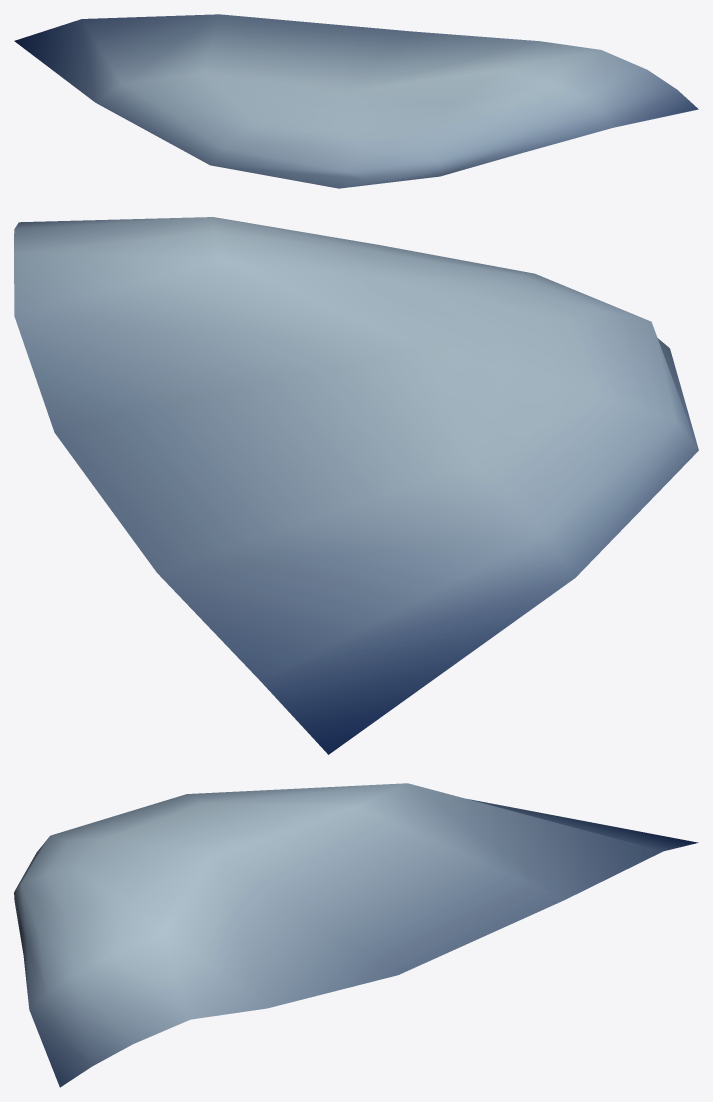
File: rock3.fbx
The picture shows the model from 3 angles, top to bottom: view 1: azimuth 30°, elevation 25°; view 2: azimuth 150°, elevation 25°; view 3: azimuth 270°, elevation 25°; orthographic projection. The views are drawn at different scales.
Visible parts, largest first — view 1: rock3; view 2: rock3; view 3: rock3.
Part boxes in pixels (box(x1,y1,x2,y2)): rock3: box(14, 14, 698, 188); rock3: box(14, 217, 698, 754); rock3: box(14, 783, 698, 1087).
Size of the model in its own units: 0.175 by 0.0222 by 0.1805.
1 material, 1 textured.
